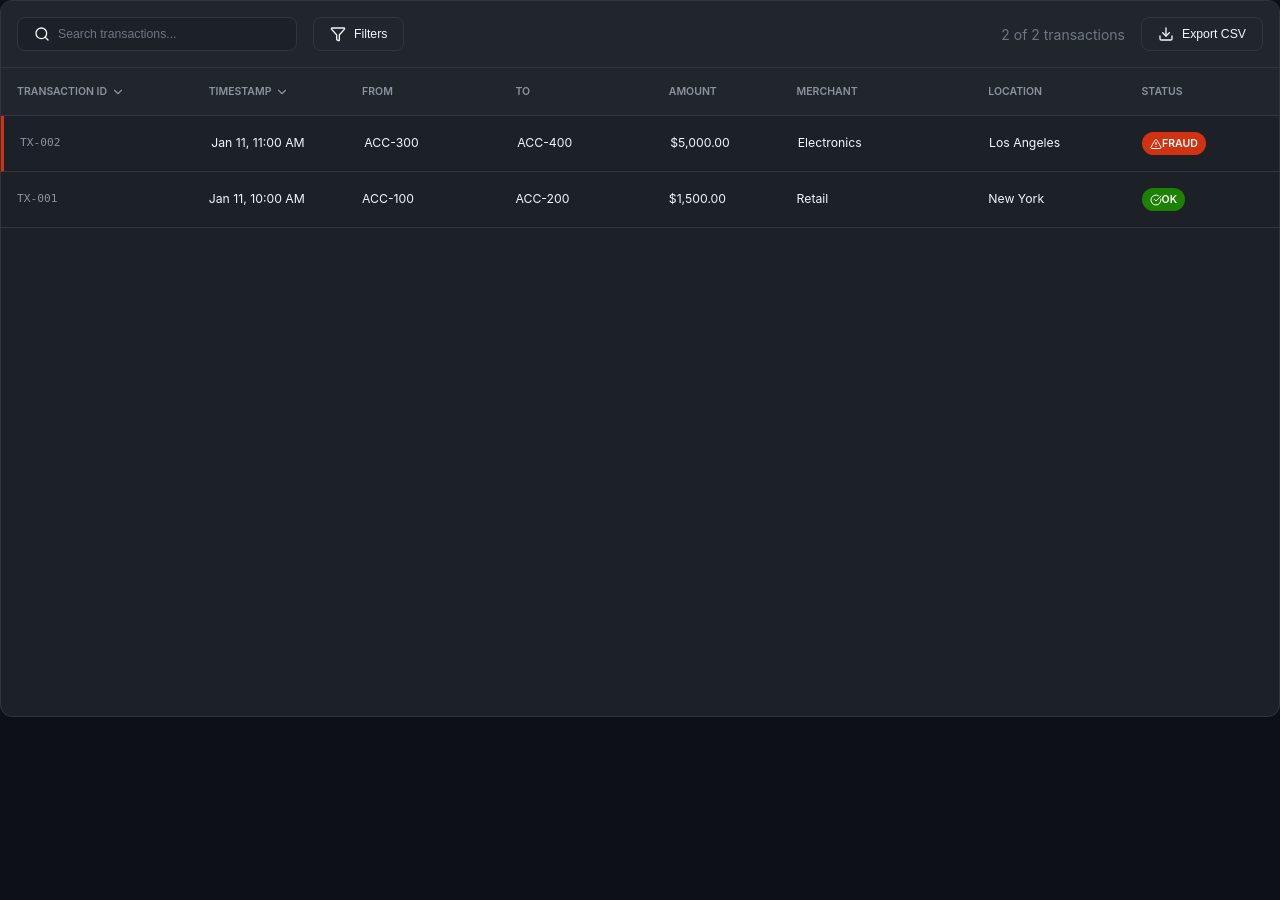
Test: TransactionTable › filters transactions by search text
Step 1. Type "TX-001" into the field with placeholder "Search transactions..." → (169, 34), box [58,27,280,41]
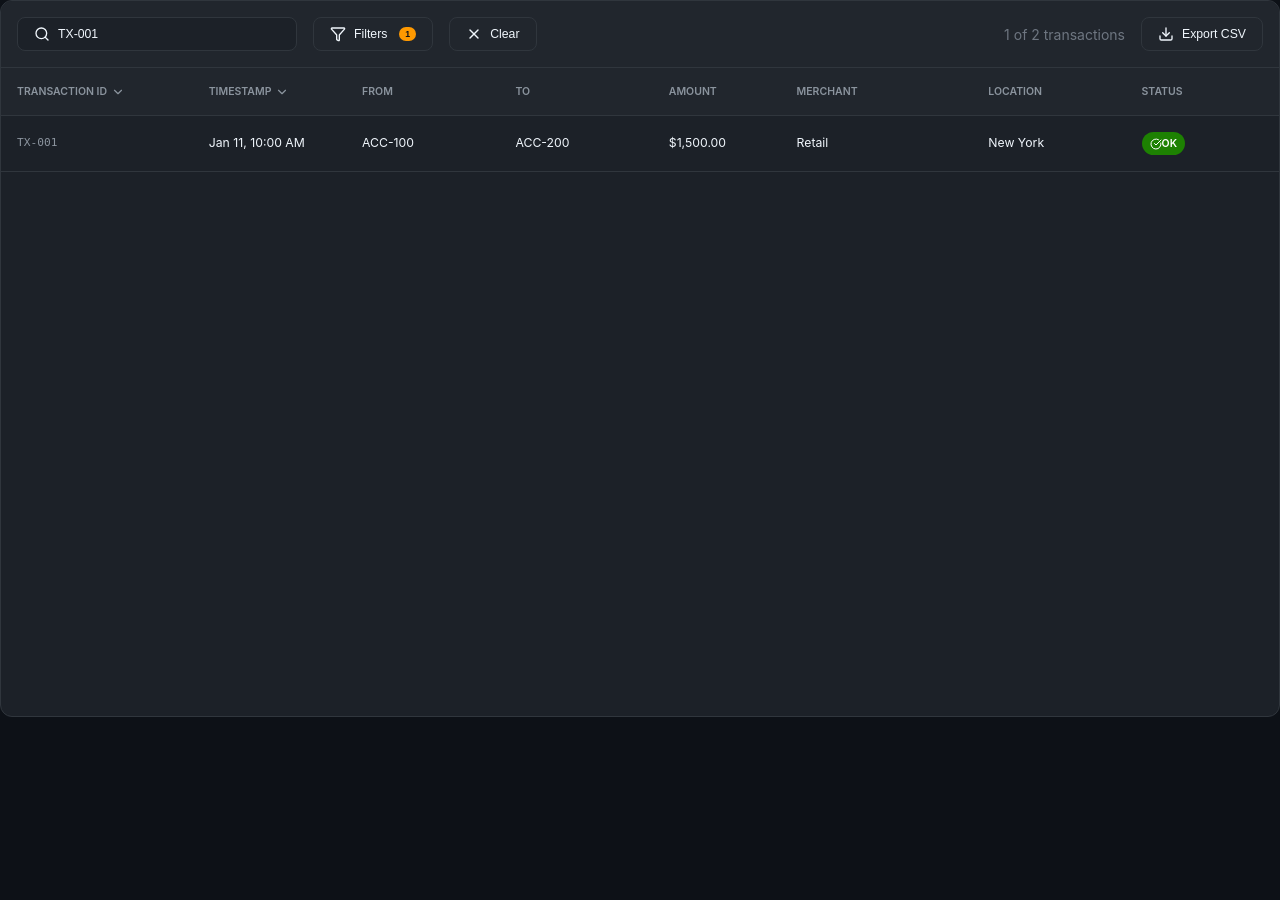
Expected: the text "1 of 2 transactions" is shown, [1004,24,1125,44]
